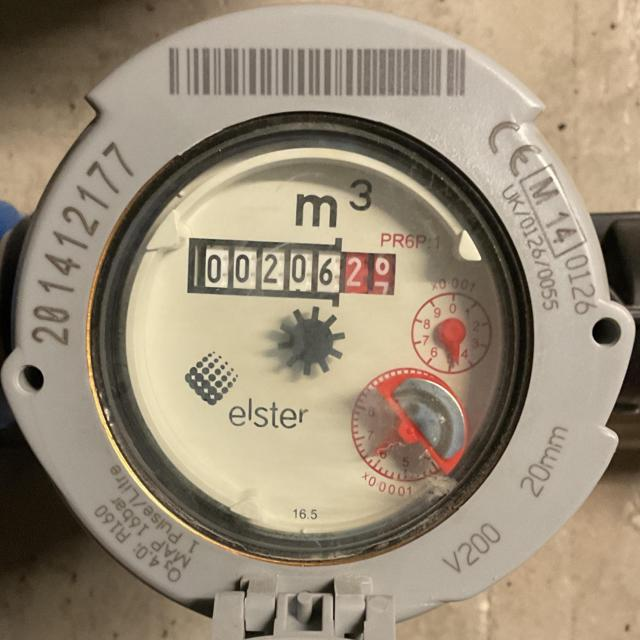gaz_meter: (108, 134, 526, 552)
indication: (196, 240, 397, 300)
